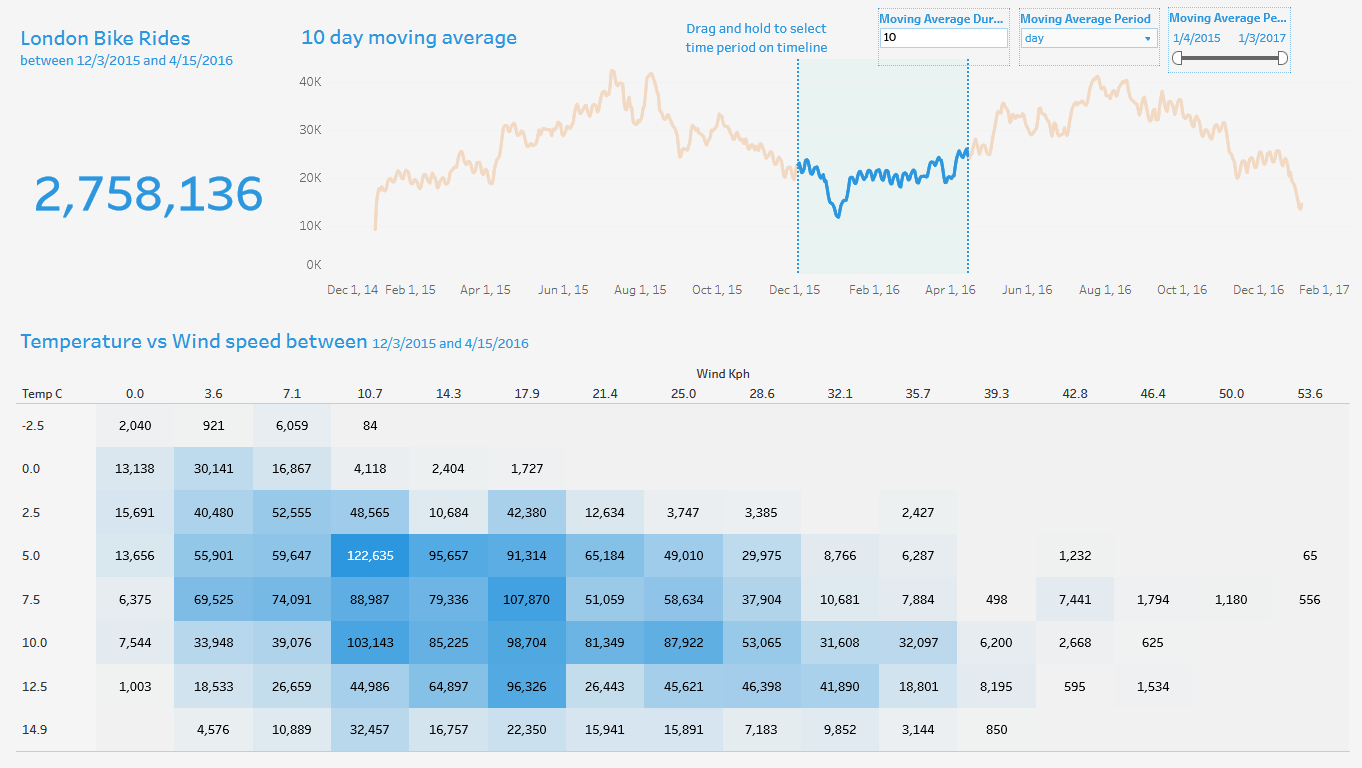

The dashboard page shown, as its layout file describes it:
{"tool":"tableau","page":{"name":"Dashboard 1","canvas":[1366,768],"ordinal":0},"visuals":[{"type":"filter","title":"MovingAverage","param":"[federated.09ug75a0k51v6o15n56yj1txj9ee].[none:Calculation_2117536259888746496:q","box":[1168,7,123,66]},{"type":"worksheet","title":"TotalRides","mark":"Automatic","box":[8,8,280.7,304]},{"type":"worksheet","title":"MovingAverage","mark":"Automatic","rows":["Calculation1"],"cols":["Calculation_2117536259888746496"],"box":[288.7,8,1069.3,304]},{"type":"parameter","param":"[Parameters].[Parameter 2]","box":[878,8,132,58]},{"type":"parameter","param":"[Parameters].[Parameter 1]","box":[1019,8,141,58]},{"type":"text","box":[666,12,181,51]},{"type":"worksheet","title":"HeatMap","mark":"Square","rows":["temp real C (bin)"],"cols":["Wind Speed Kph (bin)"],"box":[8,312,1350,448]}]}

Visuals, with their boxes in screenshot pixels (x1, y1, x2, y2), scaled from the page's 1366x768 canvas onto the 1362x768 screenshot:
"MovingAverage" filter: [x1=1165, y1=7, x2=1287, y2=73]
"TotalRides" worksheet: [x1=8, y1=8, x2=288, y2=312]
"MovingAverage" worksheet: [x1=288, y1=8, x2=1354, y2=312]
parameter: [x1=875, y1=8, x2=1007, y2=66]
parameter: [x1=1016, y1=8, x2=1157, y2=66]
text: [x1=664, y1=12, x2=845, y2=63]
"HeatMap" worksheet (Square marks): [x1=8, y1=312, x2=1354, y2=760]
